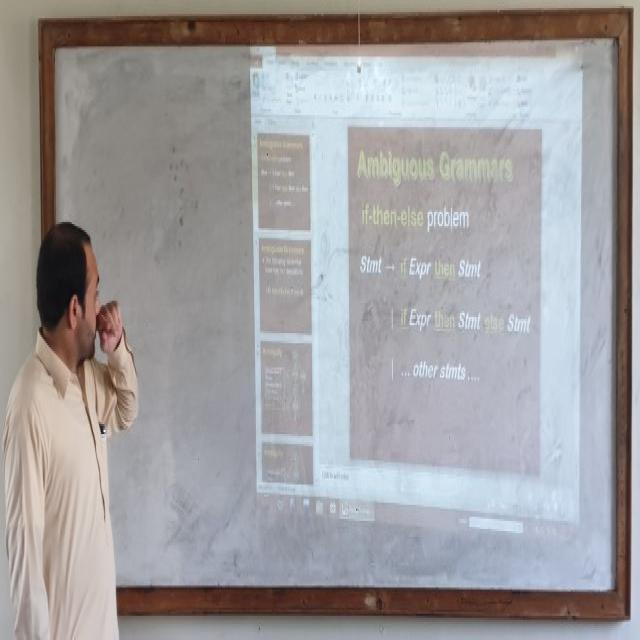Instructor: (12, 206, 124, 632)
Slide: (248, 31, 583, 539)
White-board: (49, 17, 625, 601)
